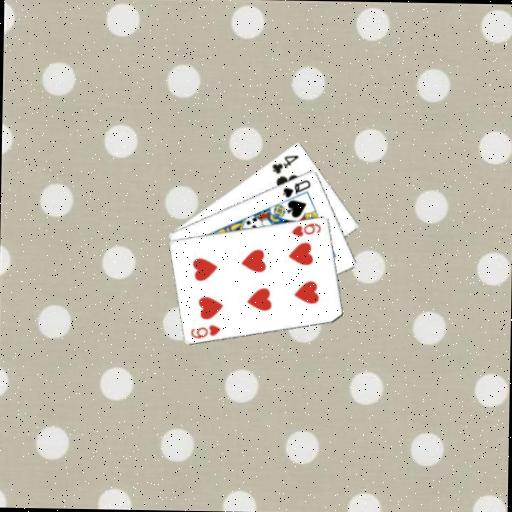4C: (269, 151, 301, 176)
6H: (289, 219, 323, 238), (188, 321, 222, 340)
QS: (279, 176, 312, 200)
